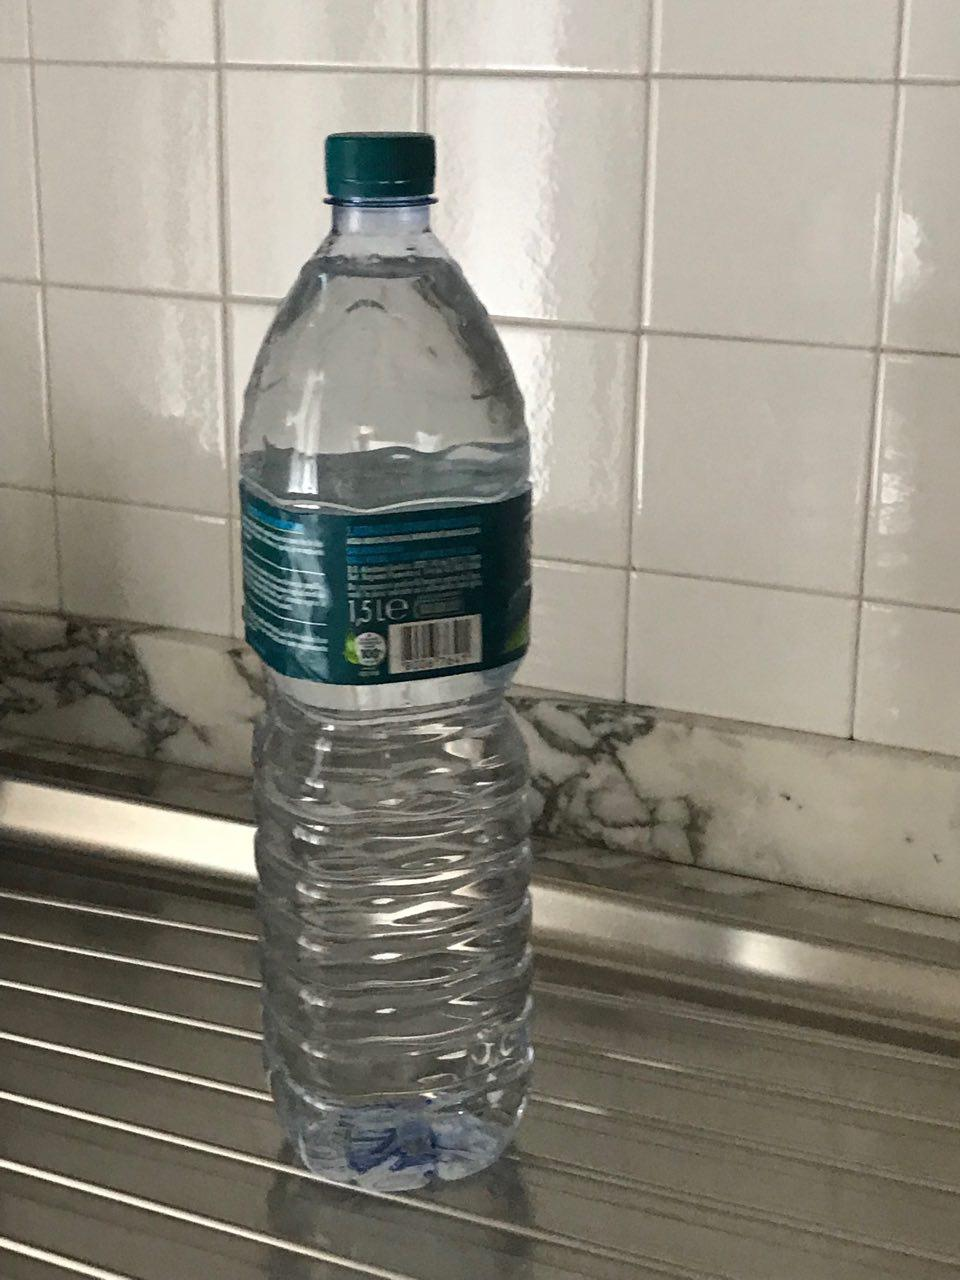san_bernardo: (237, 132, 536, 1191)
